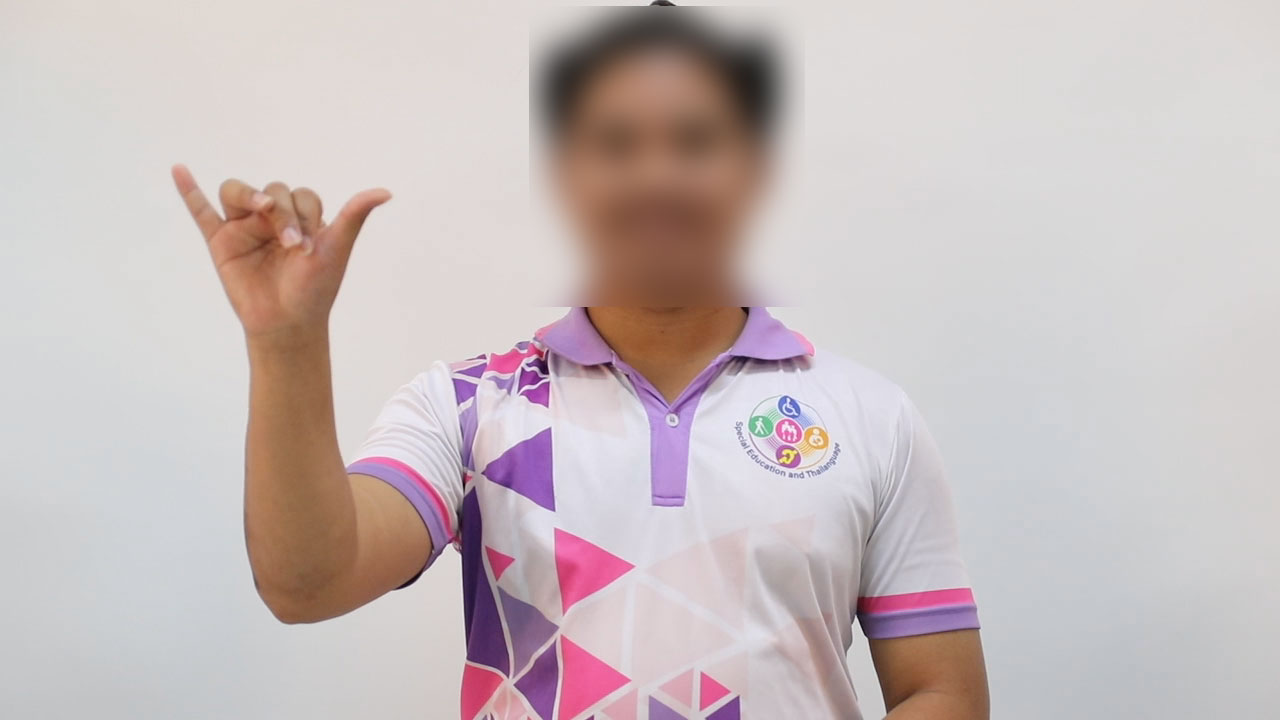yor: (152, 148, 414, 355)
